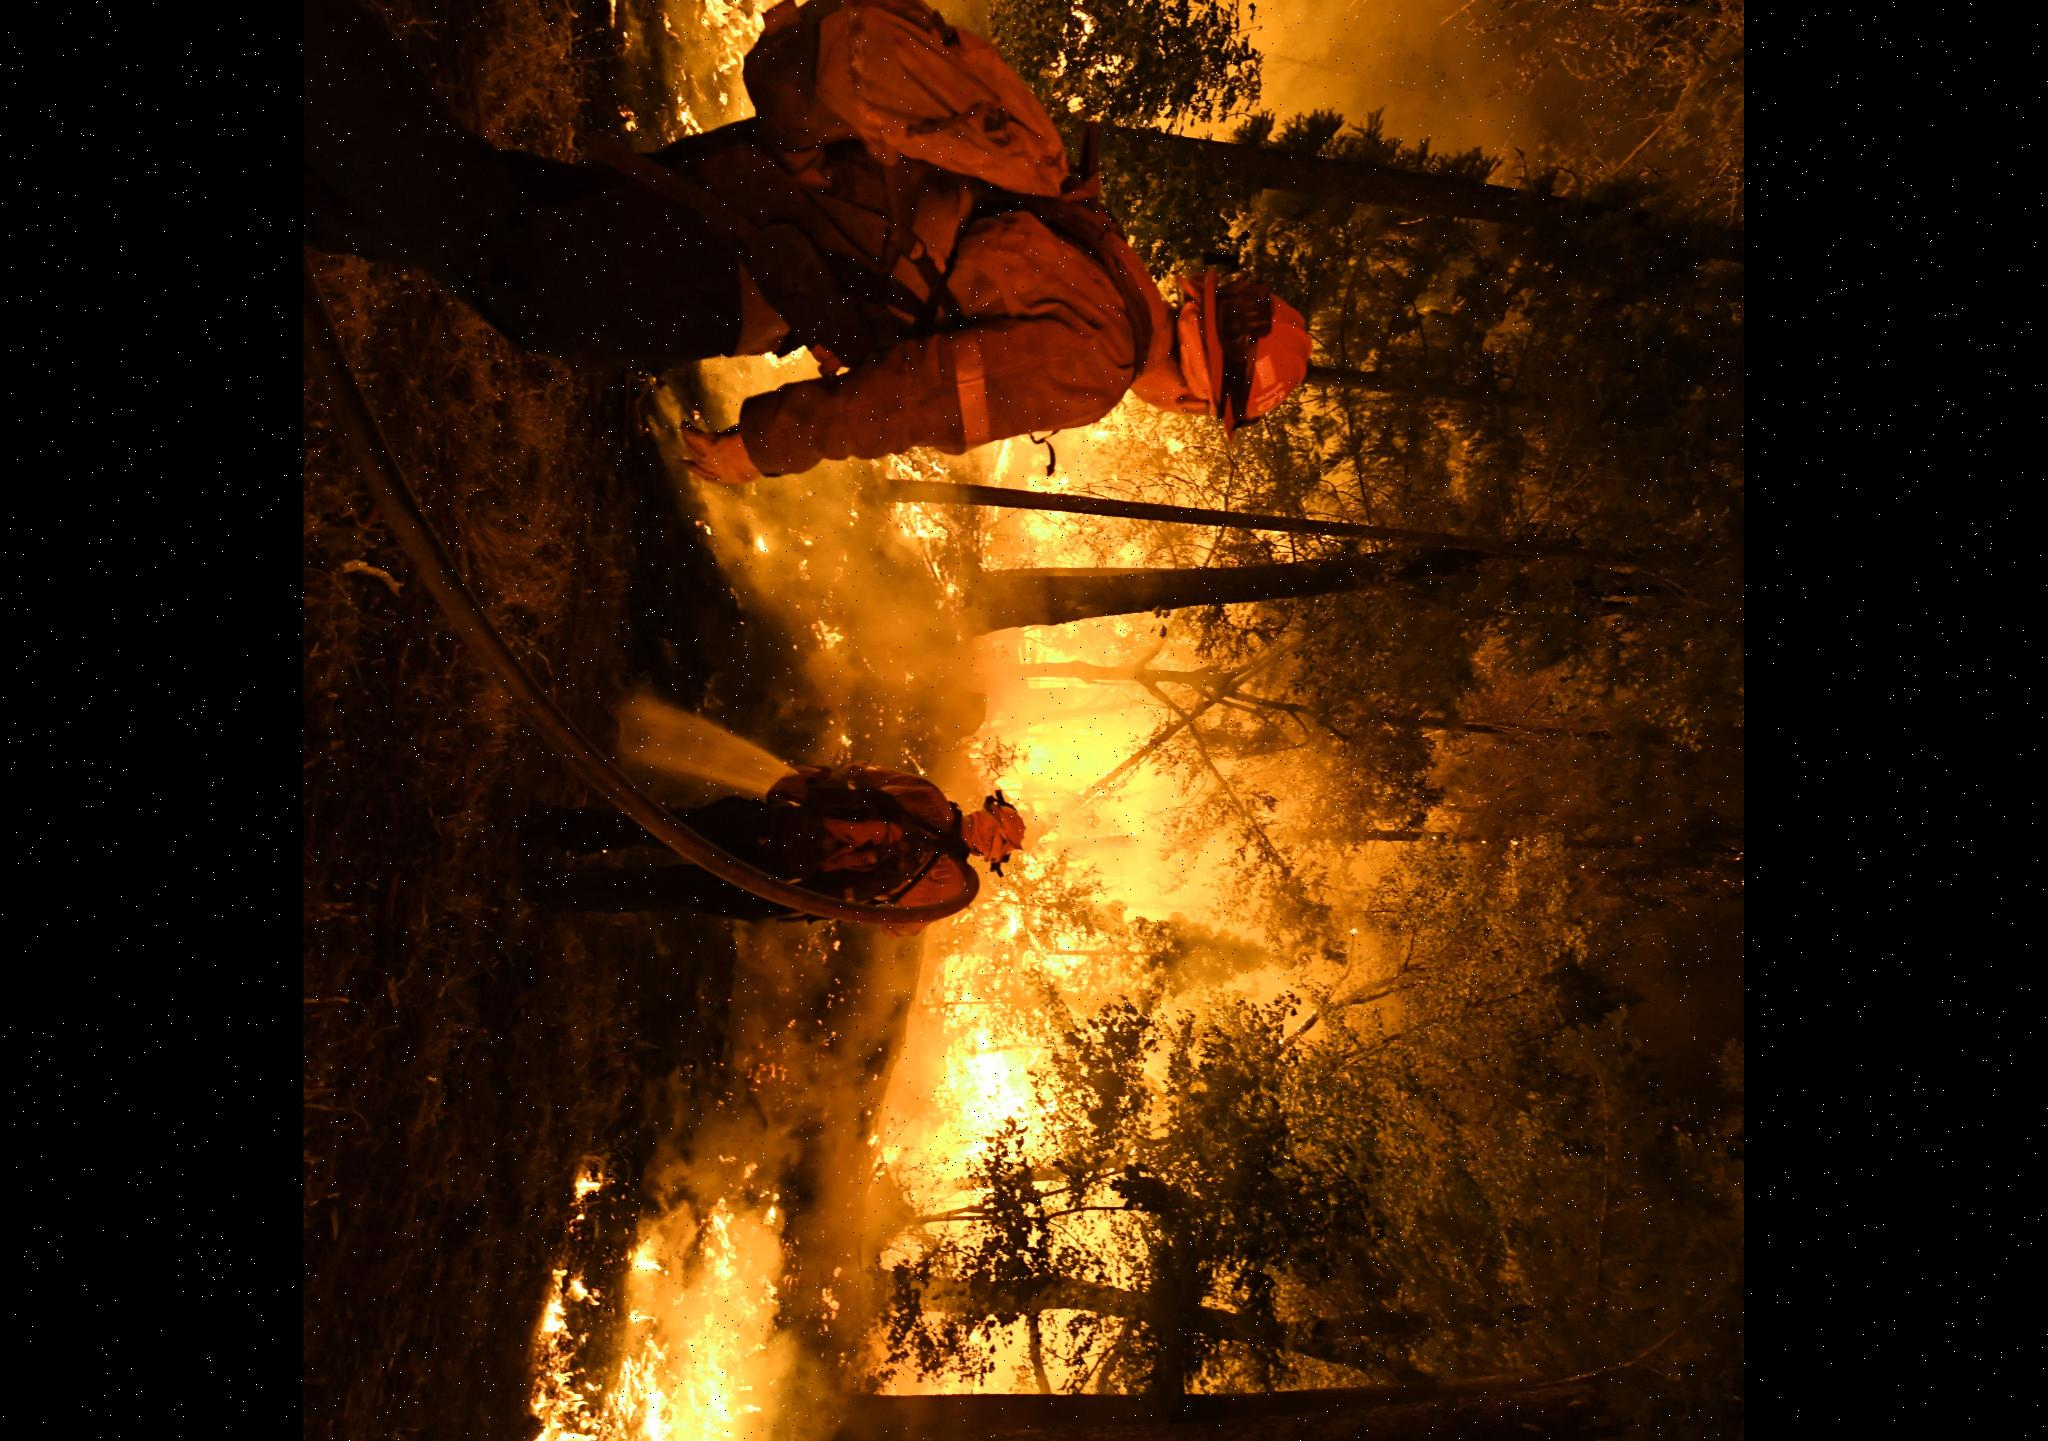fire: (484, 1004, 1089, 1441), (700, 463, 1242, 725), (546, 0, 1020, 129)
